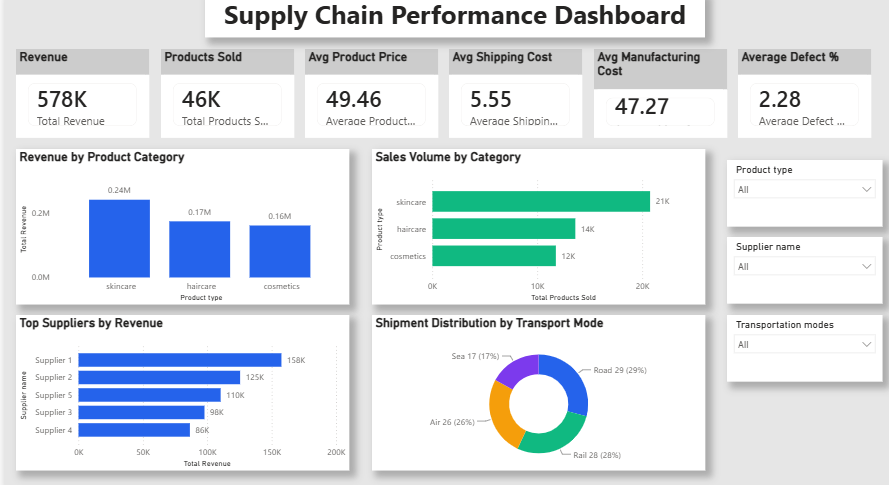

The page's visual inventory and layout, read from the dashboard file:
{"tool":"powerbi","page":{"name":"Executive Overview","canvas":[1280,720],"ordinal":0},"visuals":[{"type":"cardVisual","title":"Revenue","fields":{"Data":["supply_chain_dataset.Total Revenue"]},"box":[16,80,192,128],"z":0},{"type":"cardVisual","title":"Products Sold","fields":{"Data":["supply_chain_dataset.Total Products Sold"]},"box":[224,80,192,128],"z":1000},{"type":"cardVisual","title":"Avg Product Price","fields":{"Data":["supply_chain_dataset.Average Product Price"]},"box":[432,80,192,128],"z":2000},{"type":"cardVisual","title":"Avg Shipping Cost","fields":{"Data":["supply_chain_dataset.Average Shipping Cost"]},"box":[640,80,192,128],"z":3000},{"type":"cardVisual","title":"Avg Manufacturing Cost","fields":{"Data":["supply_chain_dataset.Average Manufacturing Cost"]},"box":[848,80,192,128],"z":4000},{"type":"cardVisual","title":"Average Defect %","fields":{"Data":["supply_chain_dataset.Average Defect Rate"]},"box":[1056,80,192,128],"z":5000},{"type":"clusteredColumnChart","title":"Revenue by Product Category","fields":{"Category":["supply_chain_dataset.Product type"],"Y":["supply_chain_dataset.Total Revenue"]},"box":[16,224,480,224],"z":6000},{"type":"clusteredBarChart","title":"Sales Volume by Category","fields":{"Y":["supply_chain_dataset.Total Products Sold"],"Category":["supply_chain_dataset.Product type"]},"box":[528,224,480,224],"z":7000},{"type":"clusteredBarChart","title":"Top Suppliers by Revenue","fields":{"Category":["supply_chain_dataset.Supplier name"],"Y":["supply_chain_dataset.Total Revenue"]},"box":[16,464,480,224],"z":8000},{"type":"donutChart","title":"Shipment Distribution by Transport Mode","fields":{"Y":["CountNonNull(supply_chain_dataset.SKU)"],"Category":["supply_chain_dataset.Transportation modes"]},"box":[528,464,480,224],"z":9000},{"type":"slicer","fields":{"Values":["supply_chain_dataset.Product type"]},"box":[1040,240,224,96],"z":10000},{"type":"slicer","fields":{"Values":["supply_chain_dataset.Supplier name"]},"box":[1040,352,224,96],"z":11000},{"type":"slicer","fields":{"Values":["supply_chain_dataset.Transportation modes"]},"box":[1040,464,224,96],"z":12000},{"type":"textbox","box":[288,0,720,64],"z":13000}]}

Visuals, with their boxes on the page's 1280x720 design canvas (x1, y1, x2, y2). These are canvas units, not pixel positions in the 889x485 screenshot, which may show the page scaled, cropped or inside an application window:
"Revenue" cardVisual: l=16, t=80, r=208, b=208
"Products Sold" cardVisual: l=224, t=80, r=416, b=208
"Avg Product Price" cardVisual: l=432, t=80, r=624, b=208
"Avg Shipping Cost" cardVisual: l=640, t=80, r=832, b=208
"Avg Manufacturing Cost" cardVisual: l=848, t=80, r=1040, b=208
"Average Defect %" cardVisual: l=1056, t=80, r=1248, b=208
"Revenue by Product Category" clusteredColumnChart: l=16, t=224, r=496, b=448
"Sales Volume by Category" clusteredBarChart: l=528, t=224, r=1008, b=448
"Top Suppliers by Revenue" clusteredBarChart: l=16, t=464, r=496, b=688
"Shipment Distribution by Transport Mode" donutChart: l=528, t=464, r=1008, b=688
slicer - supply_chain_dataset.Product type: l=1040, t=240, r=1264, b=336
slicer - supply_chain_dataset.Supplier name: l=1040, t=352, r=1264, b=448
slicer - supply_chain_dataset.Transportation modes: l=1040, t=464, r=1264, b=560
textbox: l=288, t=0, r=1008, b=64
